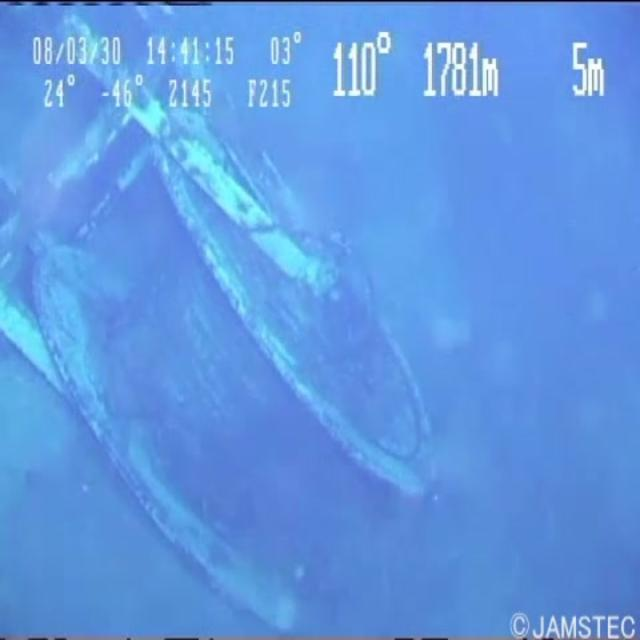Metal: (0, 0, 450, 625)
